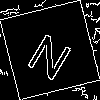N: (24, 24, 79, 82)
